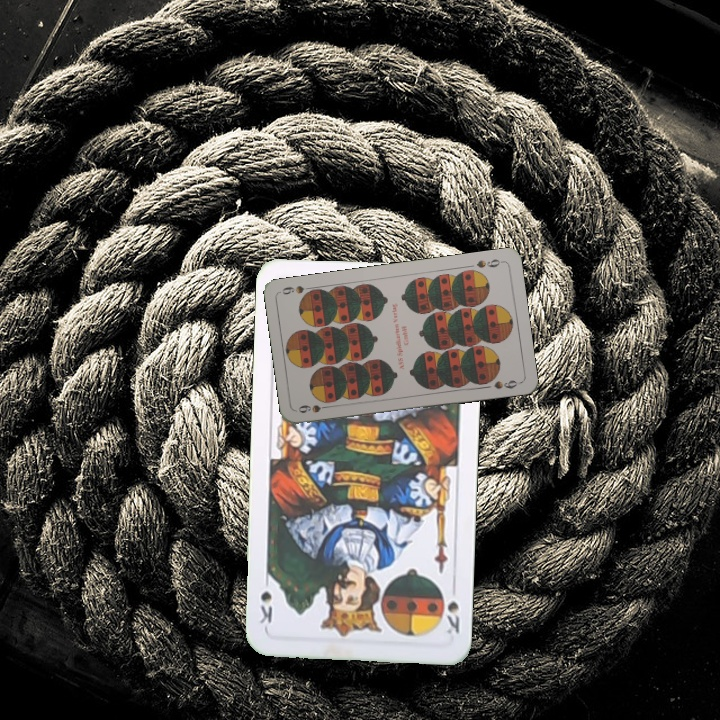S9: (294, 401, 335, 416), (473, 255, 505, 271)
SK: (439, 597, 462, 637)
